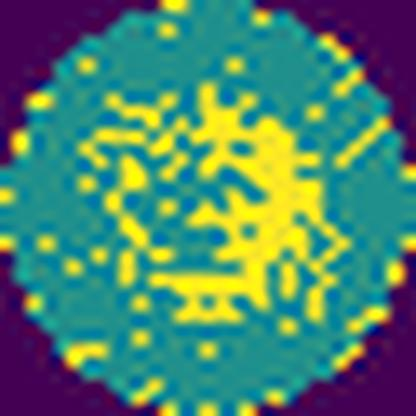Donut: (64, 72, 359, 329)
